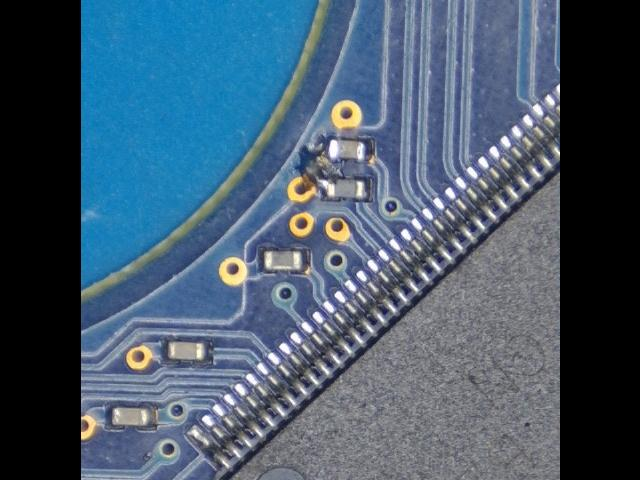Short_circuit: (318, 141, 345, 196)
